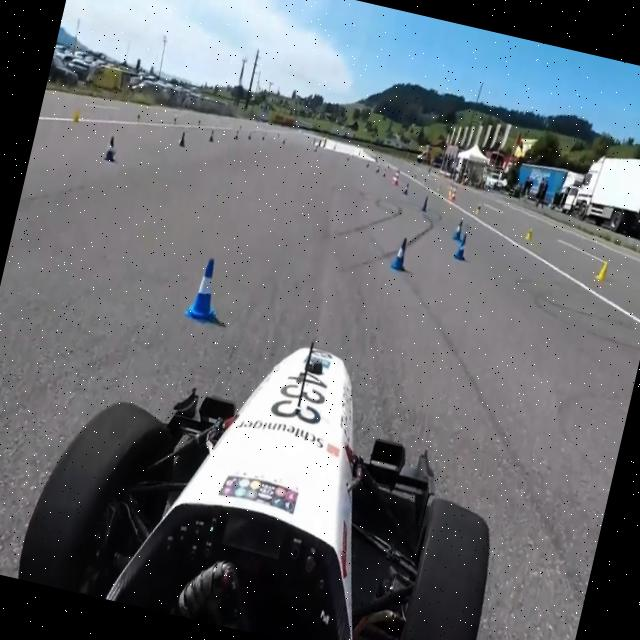blue_cone: (186, 249, 228, 322), (388, 231, 409, 270), (100, 131, 118, 163), (454, 230, 468, 260), (175, 126, 188, 148), (452, 217, 464, 240), (420, 194, 430, 213), (208, 126, 216, 144), (402, 181, 409, 197), (233, 126, 240, 140), (246, 129, 252, 140)
large_orange_cone: (391, 168, 401, 185)
yellow_cone: (594, 259, 610, 282), (524, 224, 536, 242), (72, 106, 82, 123), (473, 201, 483, 218)
